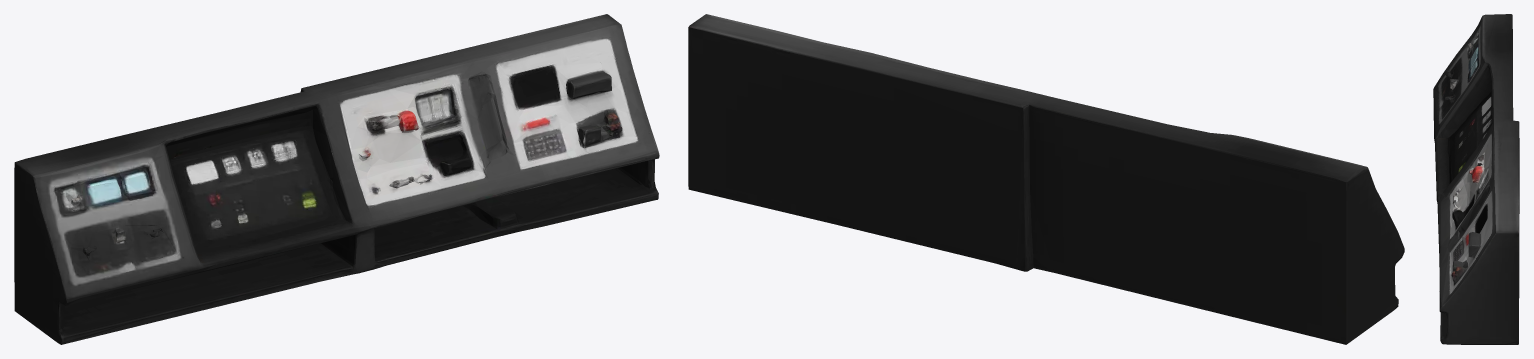
The picture shows the model from 3 angles, left to right: view 1: azimuth 30°, elevation 25°; view 2: azimuth 150°, elevation 25°; view 3: azimuth 270°, elevation 25°; orthographic projection. The views are drawn at different scales.
Parts seen in each view (by area): view 1: geometry_0; view 2: geometry_0; view 3: geometry_0.
Boxes of the visible parts, <box> form: geometry_0: <box>14,14,659,344</box>; geometry_0: <box>688,14,1404,344</box>; geometry_0: <box>1433,14,1519,344</box>.
Size of the model in its own units: 1 by 0.241 by 0.1666.
Materials: 1 (1 with a texture image).
